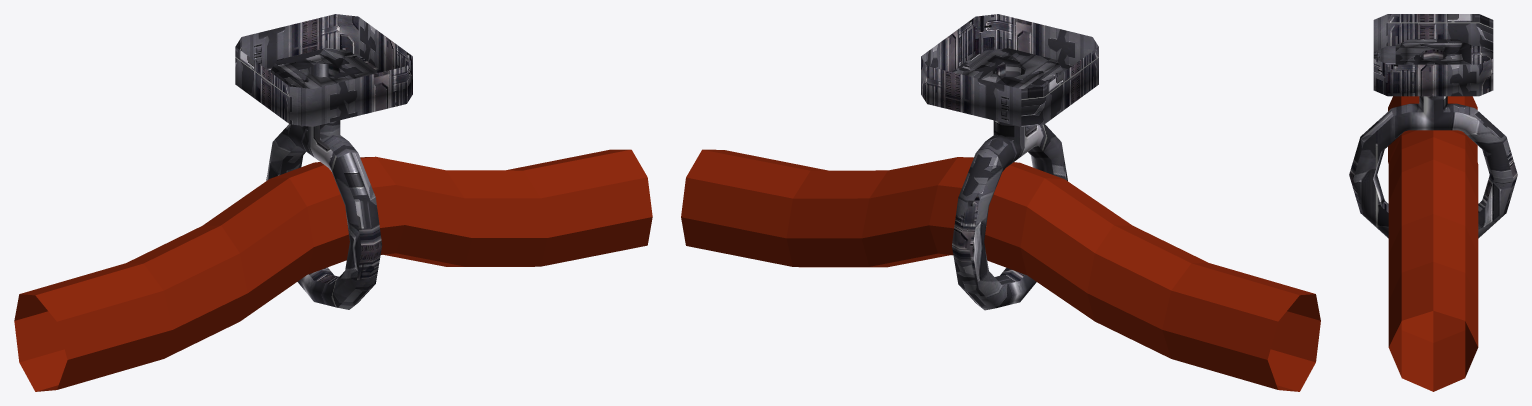
The model's file is CubeBaseFrontAdorno.fbx.
3 renders of one model, left to right at view 1: azimuth 30°, elevation 25°; view 2: azimuth 150°, elevation 25°; view 3: azimuth 270°, elevation 25°, orthographic. The views are drawn at different scales.
Visible parts, largest first — view 1: polySurface8; view 2: polySurface8; view 3: polySurface8.
Boxes of the visible parts, box(x1,y1,x2,y2) form: polySurface8: box(14, 14, 652, 391); polySurface8: box(681, 14, 1320, 391); polySurface8: box(1349, 14, 1517, 391).
Size of the model in its own units: 3.23 by 1.39 by 0.9405.
Materials: 1 (1 with a texture image).
